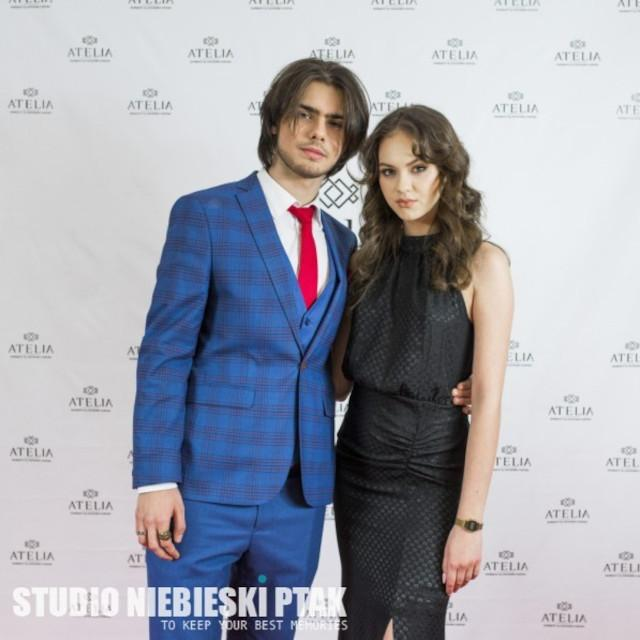kobieta: (339, 107, 516, 640)
mezczyzna: (136, 59, 369, 640)
